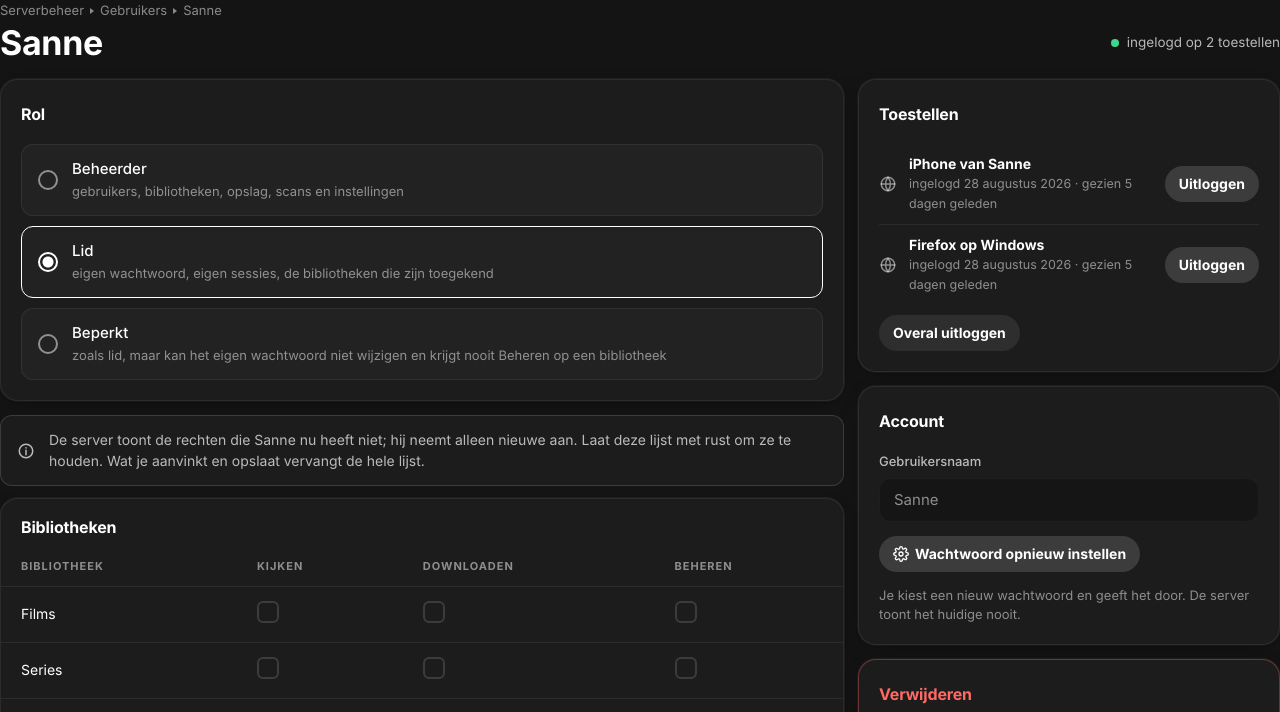
Test: toestellen › vraagt voor Overal uitloggen om bevestiging en trekt dan elke sessie in
Click the button "Overal uitloggen" at (949, 333), box [879, 315, 1020, 351]
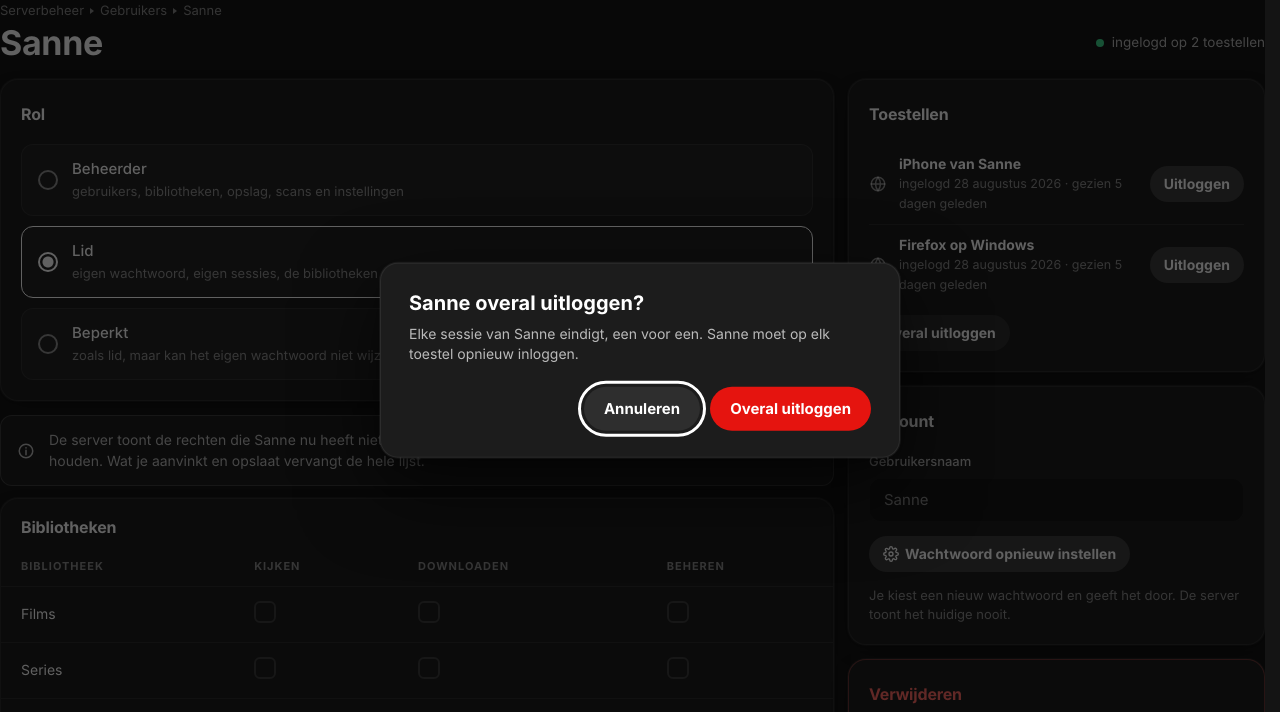
Click the button "Overal uitloggen" at (791, 408), box [710, 386, 871, 430]
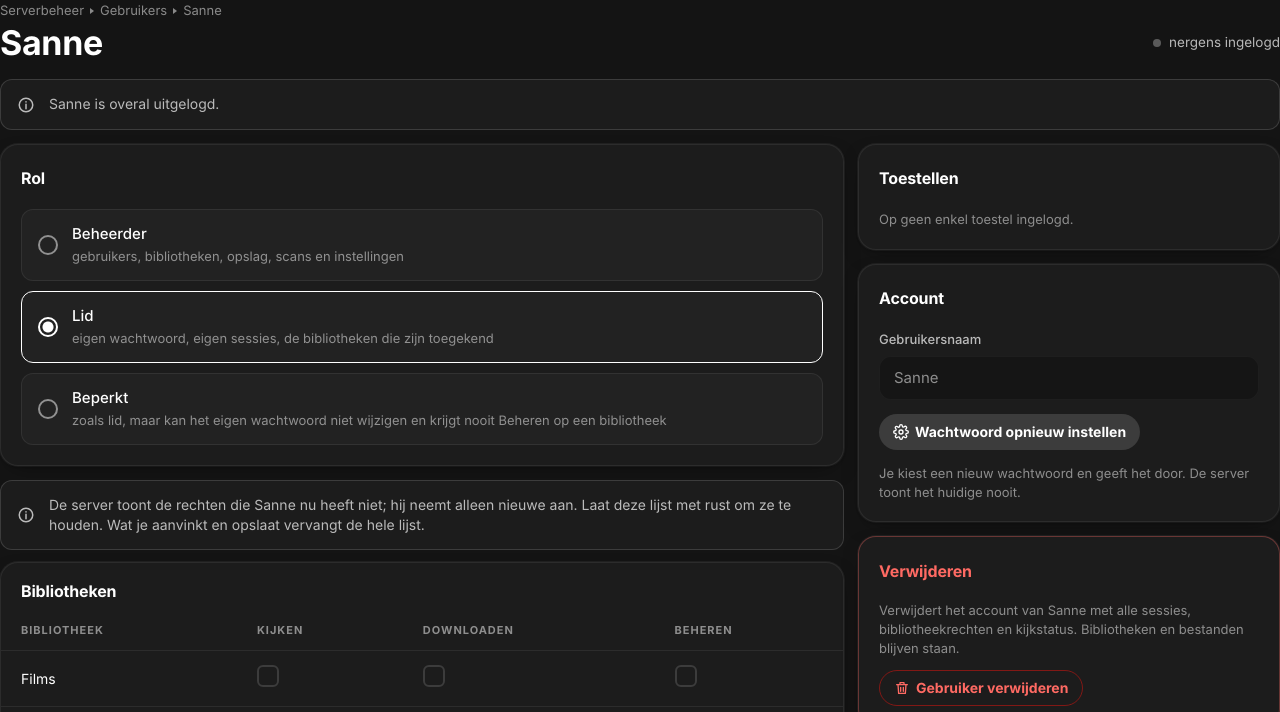
Result: the text "Sanne is overal uitgelogd." is shown at [49, 95, 219, 112]
